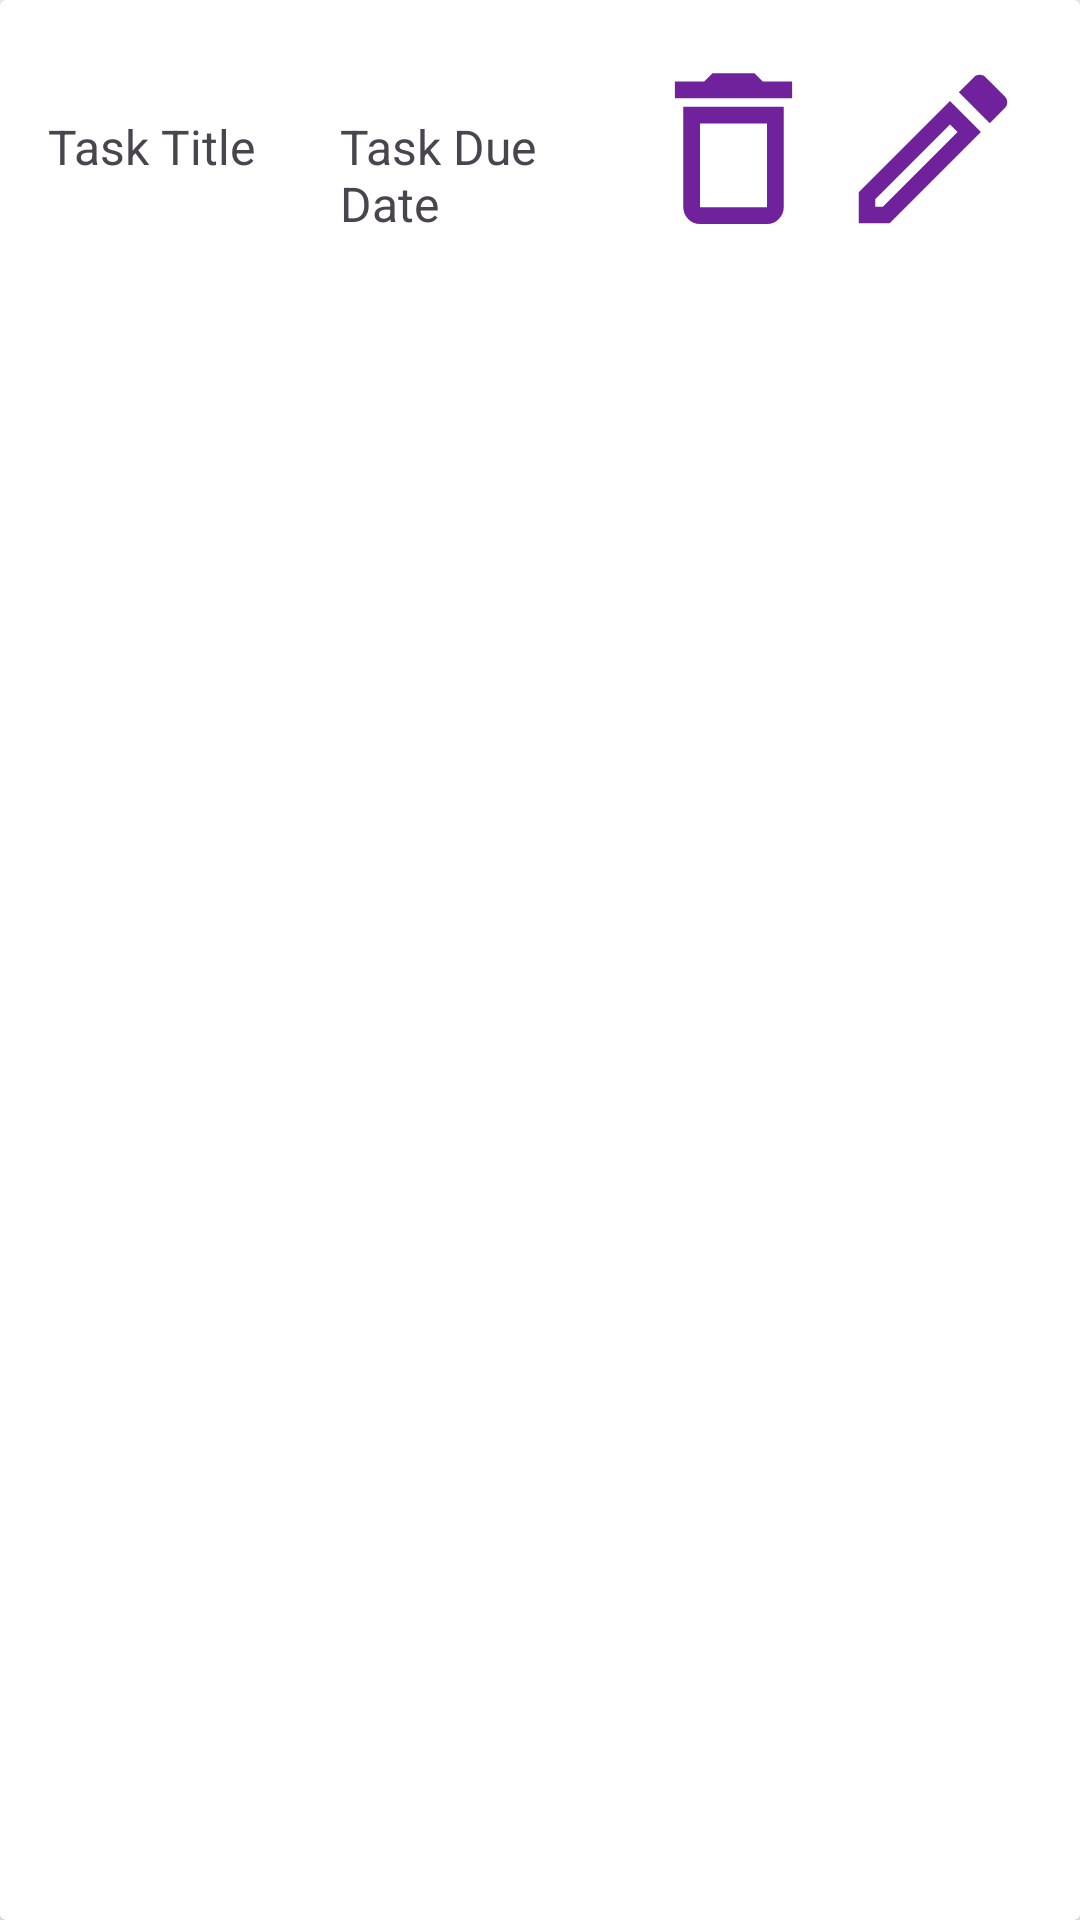

Named icons in this screenshot (1080px x 1920px) and their centers, (x=x, y=y):
delete: (x=733, y=148)
